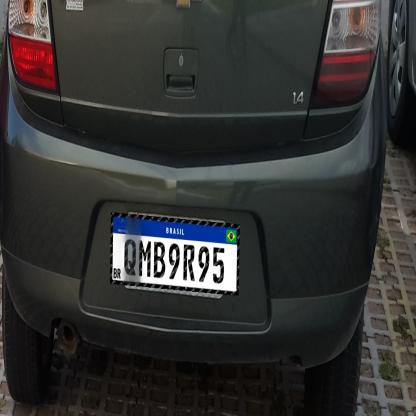PlacaM: (110, 212, 240, 296)
